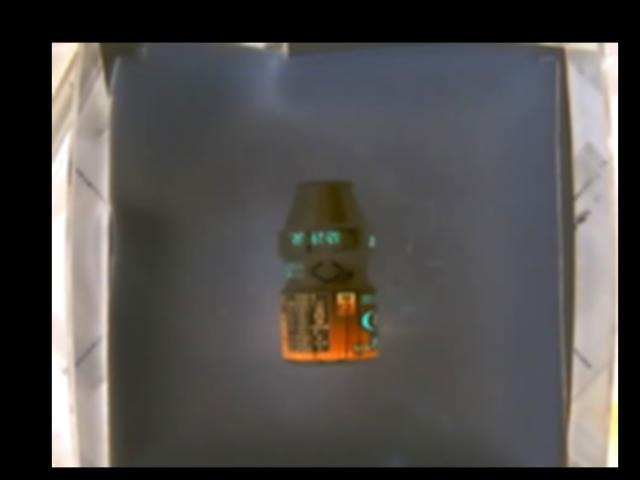Bottle: (282, 178, 375, 367)
